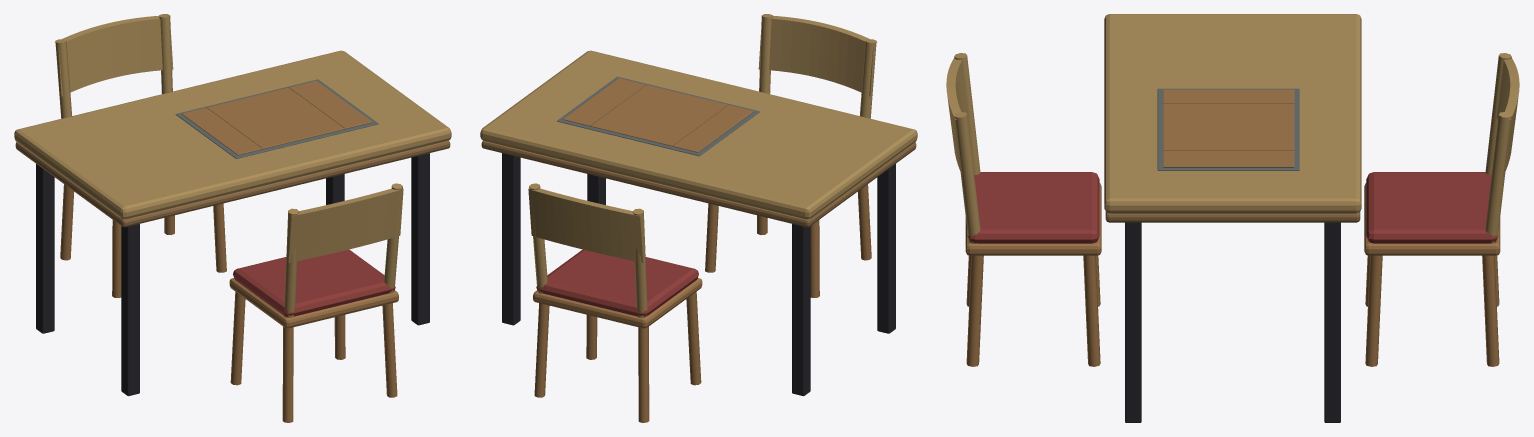
The model's file is table.glb.
3 views of the same model, side by side, from view 1: azimuth 30°, elevation 25°; view 2: azimuth 150°, elevation 25°; view 3: azimuth 270°, elevation 25° (orthographic). The views are drawn at different scales.
Visible parts, largest first — view 1: G010_table; view 2: G010_table; view 3: G010_table.
Part boxes in pixels (x1,y1,x2,y2): G010_table: (14,14,451,422); G010_table: (480,14,917,422); G010_table: (946,14,1519,422).
Bounding box in the file's own units: 1.25 × 0.7729 × 1.6.
